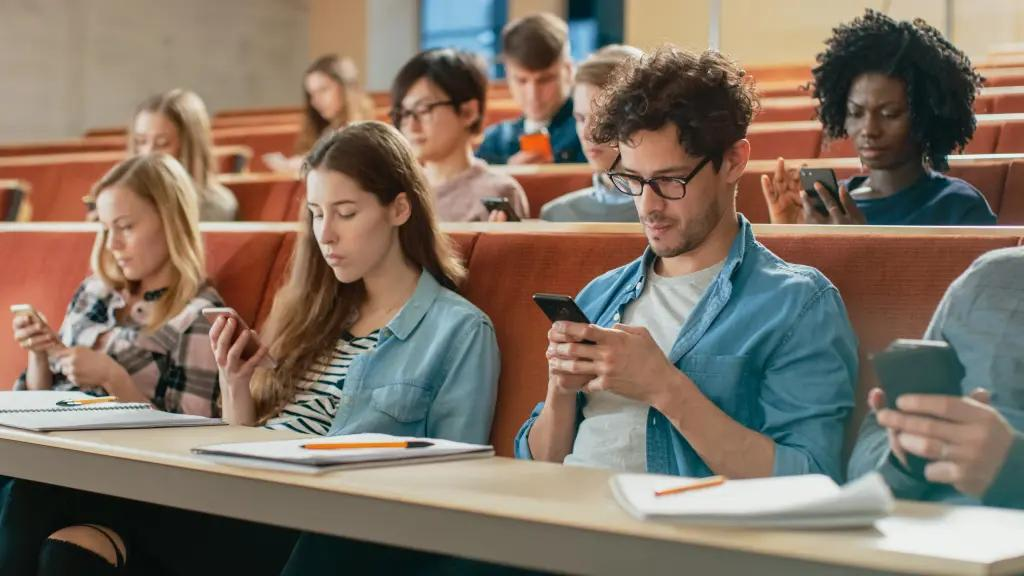phone: (512, 46, 853, 478), (199, 120, 490, 438), (8, 153, 222, 404), (757, 15, 1003, 224), (862, 268, 1024, 499), (484, 48, 640, 225), (456, 18, 598, 169)
